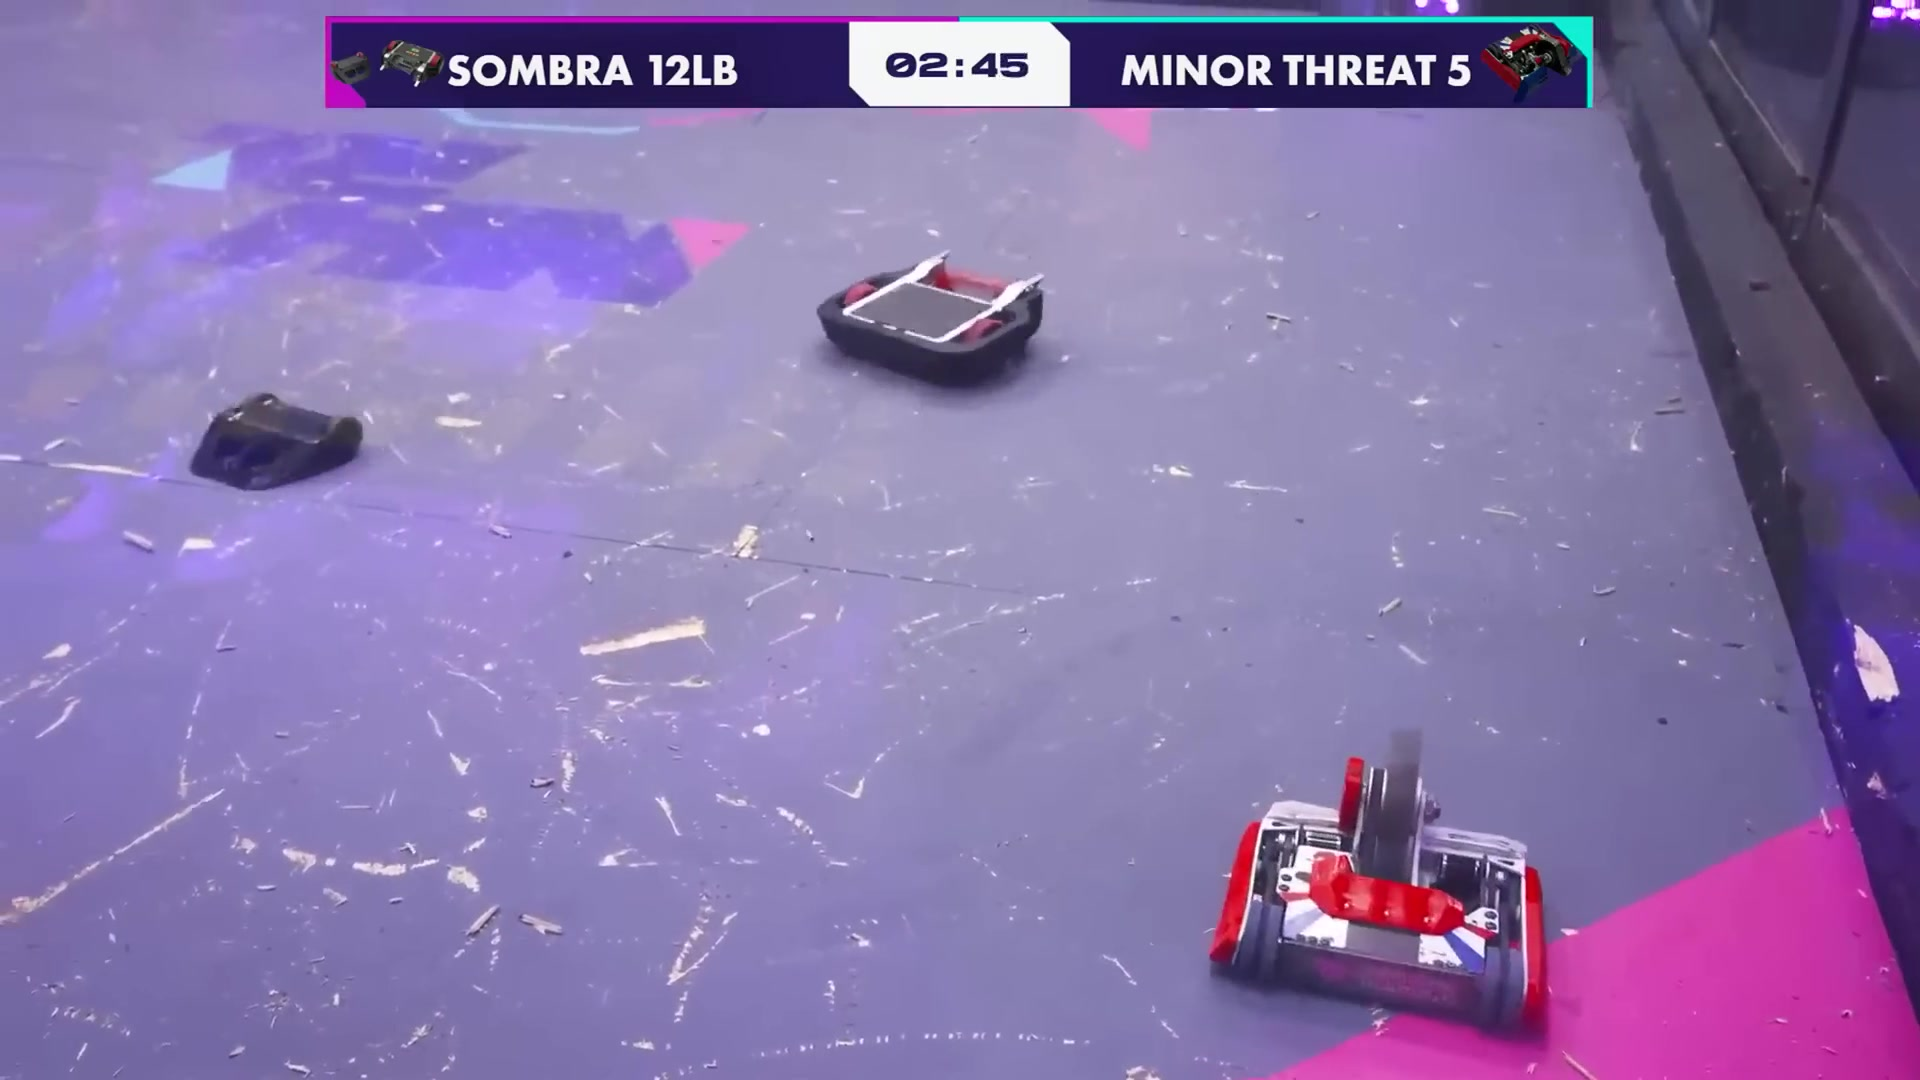combatbot: (1208, 757, 1553, 1034), (814, 255, 1040, 396)
minibot: (191, 390, 372, 488)
